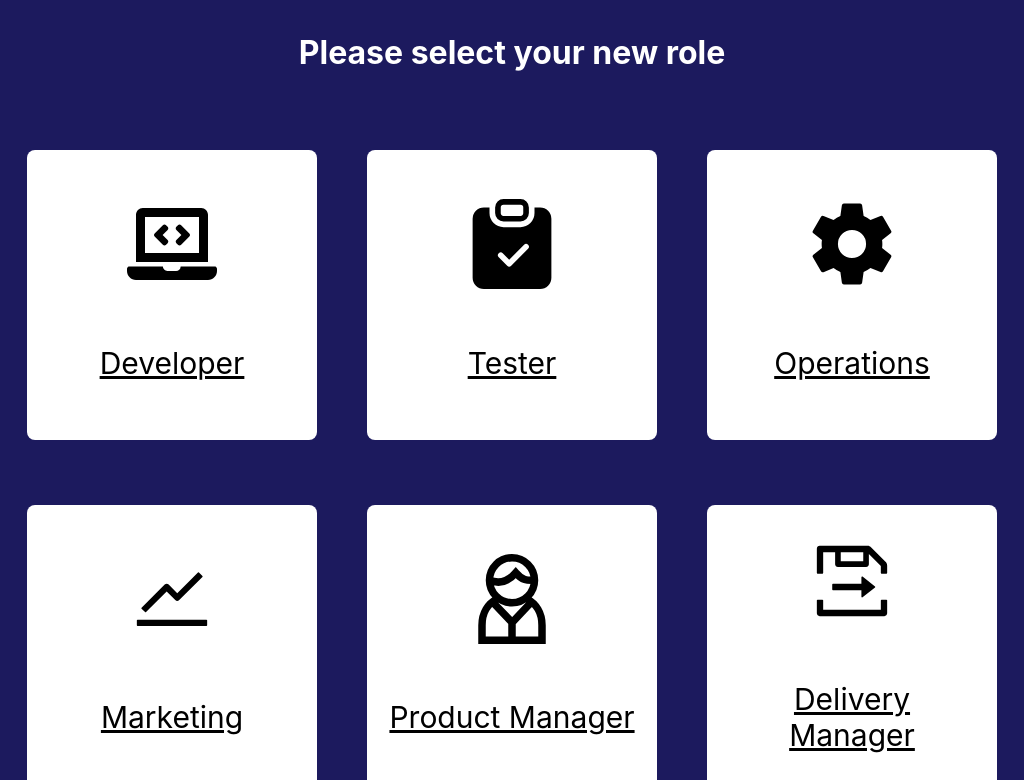
Scenario: Operations page loads on click › should navigate to the Operations Page on Operations card click
Click the link "Operations".
click(852, 244)  # box [707,150,997,440]
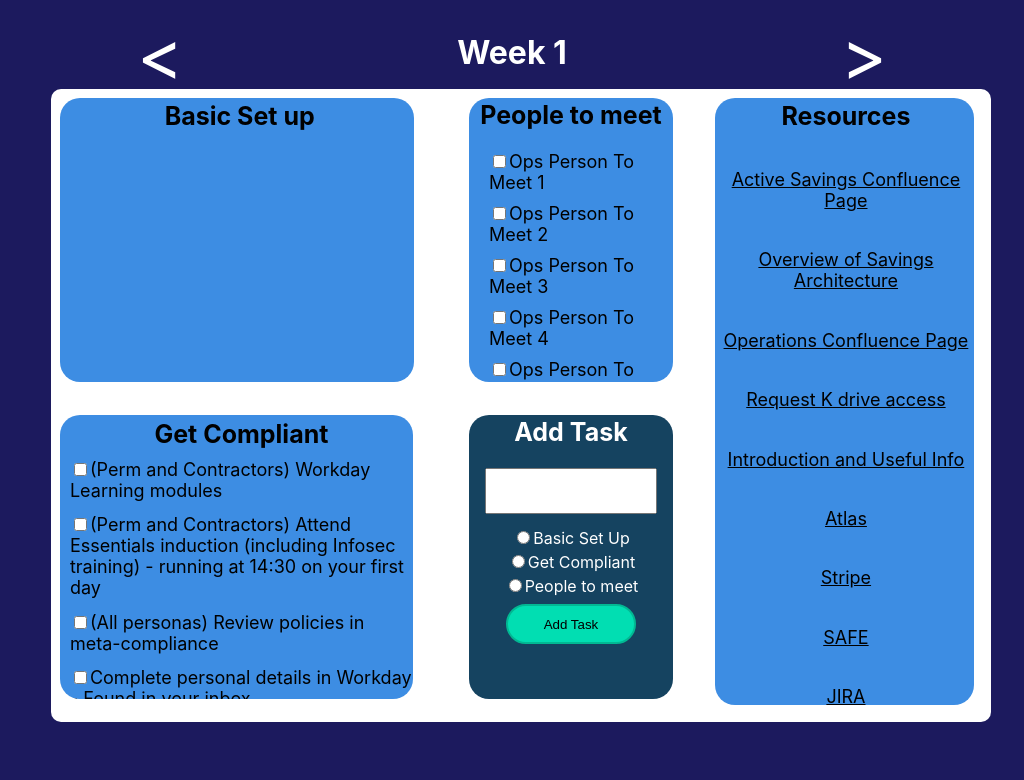
Now the heading "Week 1" is shown, box [457,33,567,67]
